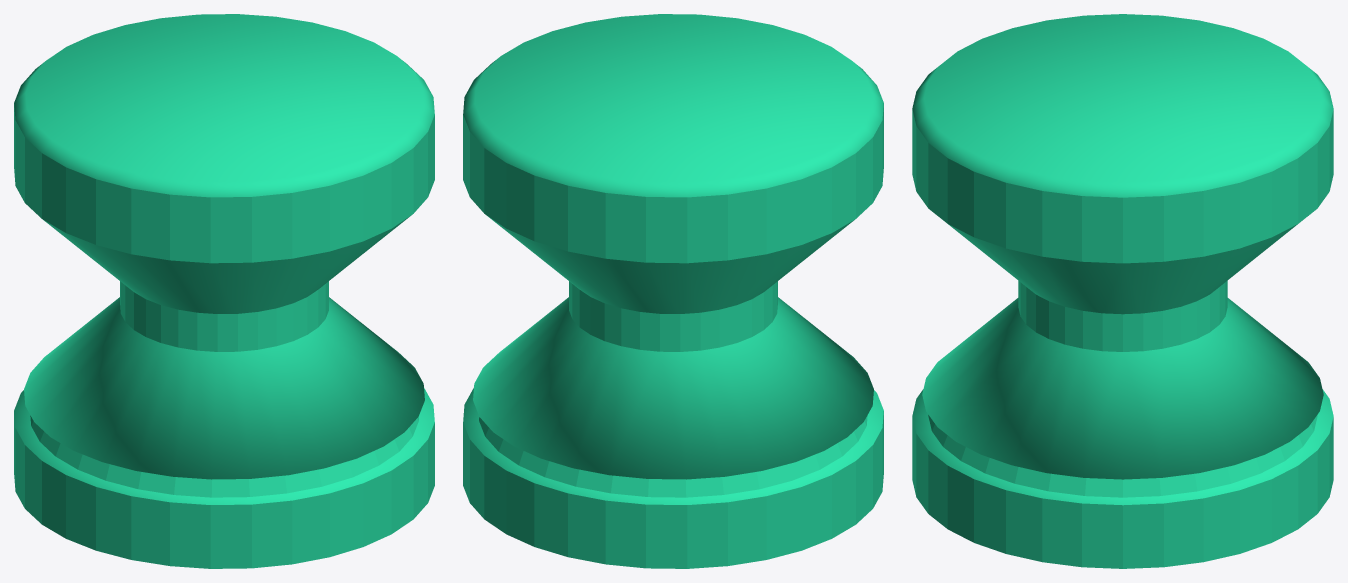
Rendered from plinth-0.glb.
3 renders of one model, left to right at view 1: azimuth 30°, elevation 25°; view 2: azimuth 150°, elevation 25°; view 3: azimuth 270°, elevation 25°, orthographic.
Parts seen in each view (by area): view 1: Cylinder; view 2: Cylinder; view 3: Cylinder.
Boxes of the visible parts, <box> form: Cylinder: <box>14,14,434,568</box>; Cylinder: <box>463,14,883,568</box>; Cylinder: <box>912,14,1333,568</box>.
Size of the model in its own units: 1.45 by 1.45 by 1.45.
